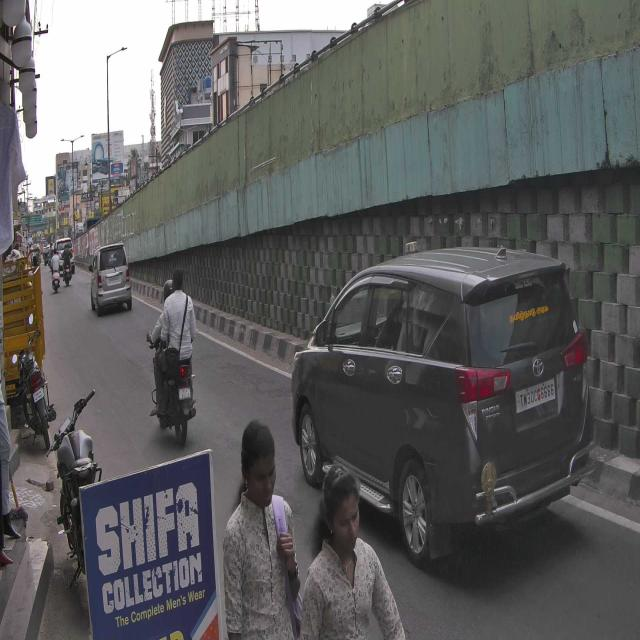double_rider: (145, 265, 200, 450)
